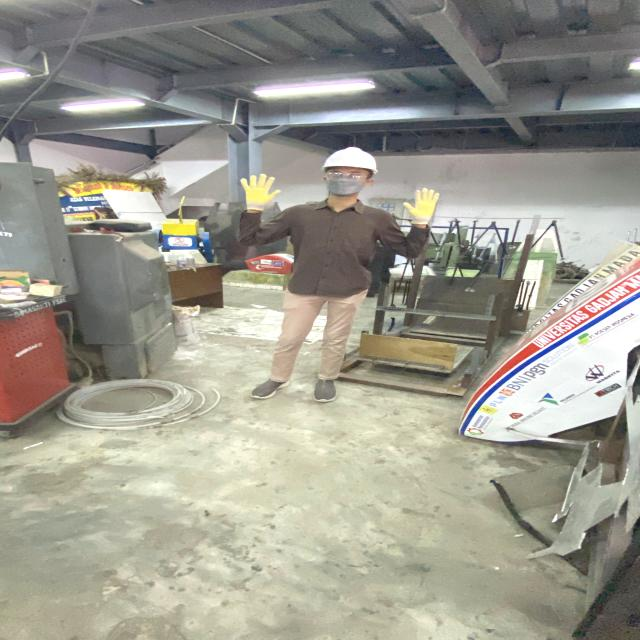face_mask: (324, 170, 369, 196)
glasses: (321, 168, 372, 182)
hand_glove: (234, 172, 283, 206), (401, 186, 447, 220)
head_helmet: (318, 146, 380, 172)
person: (229, 146, 445, 407)
shoes: (244, 374, 293, 401), (305, 374, 340, 404)
